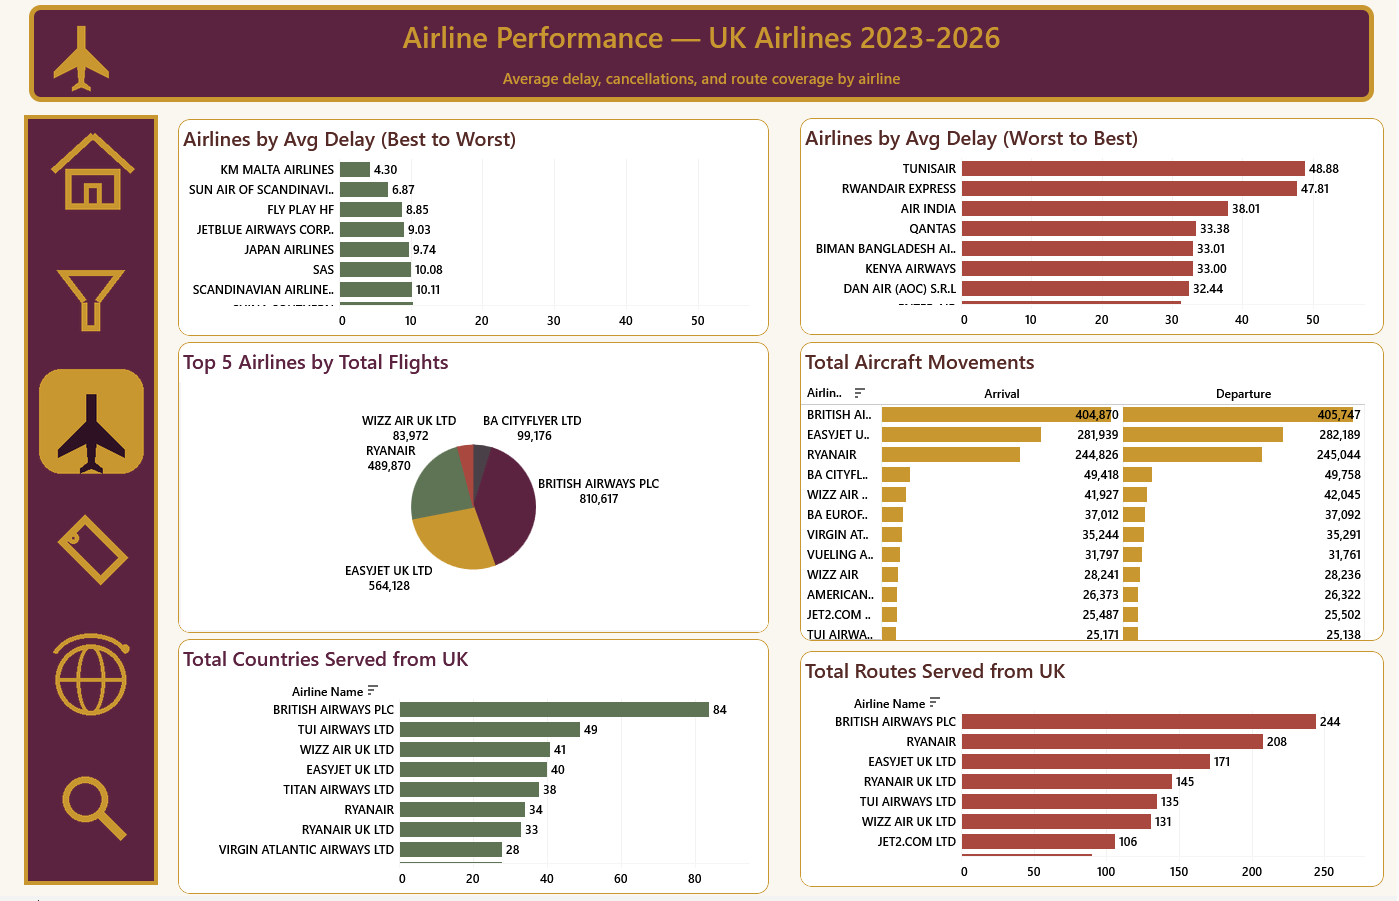

Layout of this report page (visuals, bound fields, positions):
{"tool":"tableau","page":{"name":"Airline performance","canvas":[1400,900],"ordinal":0},"visuals":[{"type":"image","param":"Image/nav_airport_performance.png","box":[32,0,140,104]},{"type":"text","box":[30,7,1349,101]},{"type":"filter","title":"Worst Airlines","param":"[federated.1qvwq7p13qp5wx132kuoq0ngnuc3].[none:reporting_airport:nk]","box":[163.3,105.7,238,105.7]},{"type":"blank","box":[27,119,134,770]},{"type":"dashboard-object","box":[30,121,130,115]},{"type":"worksheet","title":"Worst Airlines","mark":"Automatic","rows":["airline_name"],"cols":["average_delay_mins"],"box":[803,122,584,217]},{"type":"worksheet","title":"Best Airlines","mark":"Automatic","rows":["airline_name"],"cols":["average_delay_mins"],"box":[181,123,591,217]},{"type":"filter","title":"Worst Airlines","param":"[federated.1qvwq7p13qp5wx132kuoq0ngnuc3].[none:airline_name:nk]","box":[163.3,211.5,238,677.2]},{"type":"dashboard-object","box":[29,240,128,121]},{"type":"worksheet","title":"Total Flights by Airline","mark":"Pie","box":[181,346,591,291]},{"type":"worksheet","title":"Total Aircraft Movements","mark":"Bar","rows":["airline_name"],"cols":["arrival_departure"],"box":[803,346,584,299]},{"type":"dashboard-object","box":[30,362,128,126]},{"type":"dashboard-object","box":[32,491,126,125]},{"type":"dashboard-object","box":[31,618,125,131]},{"type":"worksheet","title":"Total Countries Served from UK","mark":"Bar","rows":["airline_name"],"cols":["origin_destination_country"],"box":[181,643,591,255]},{"type":"worksheet","title":"Total Routes Served from UK","mark":"Bar","rows":["airline_name"],"cols":["origin_destination"],"box":[803,655,584,236]},{"type":"dashboard-object","box":[31,749,126,120]}]}

Visuals, with their boxes in screenshot pixels (x1, y1, x2, y2), scaled from the page's 1400x900 canvas onto the 1399x901 screenshot:
image: {"x1": 32, "y1": 0, "x2": 172, "y2": 104}
text: {"x1": 30, "y1": 7, "x2": 1378, "y2": 108}
"Worst Airlines" filter: {"x1": 163, "y1": 106, "x2": 401, "y2": 212}
blank: {"x1": 27, "y1": 119, "x2": 161, "y2": 890}
dashboard-object: {"x1": 30, "y1": 121, "x2": 160, "y2": 236}
"Worst Airlines" worksheet: {"x1": 802, "y1": 122, "x2": 1386, "y2": 339}
"Best Airlines" worksheet: {"x1": 181, "y1": 123, "x2": 771, "y2": 340}
"Worst Airlines" filter: {"x1": 163, "y1": 212, "x2": 401, "y2": 890}
dashboard-object: {"x1": 29, "y1": 240, "x2": 157, "y2": 361}
"Total Flights by Airline" worksheet (Pie marks): {"x1": 181, "y1": 346, "x2": 771, "y2": 638}
"Total Aircraft Movements" worksheet (Bar marks): {"x1": 802, "y1": 346, "x2": 1386, "y2": 646}
dashboard-object: {"x1": 30, "y1": 362, "x2": 158, "y2": 489}
dashboard-object: {"x1": 32, "y1": 492, "x2": 158, "y2": 617}
dashboard-object: {"x1": 31, "y1": 619, "x2": 156, "y2": 750}
"Total Countries Served from UK" worksheet (Bar marks): {"x1": 181, "y1": 644, "x2": 771, "y2": 899}
"Total Routes Served from UK" worksheet (Bar marks): {"x1": 802, "y1": 656, "x2": 1386, "y2": 892}
dashboard-object: {"x1": 31, "y1": 750, "x2": 157, "y2": 870}
